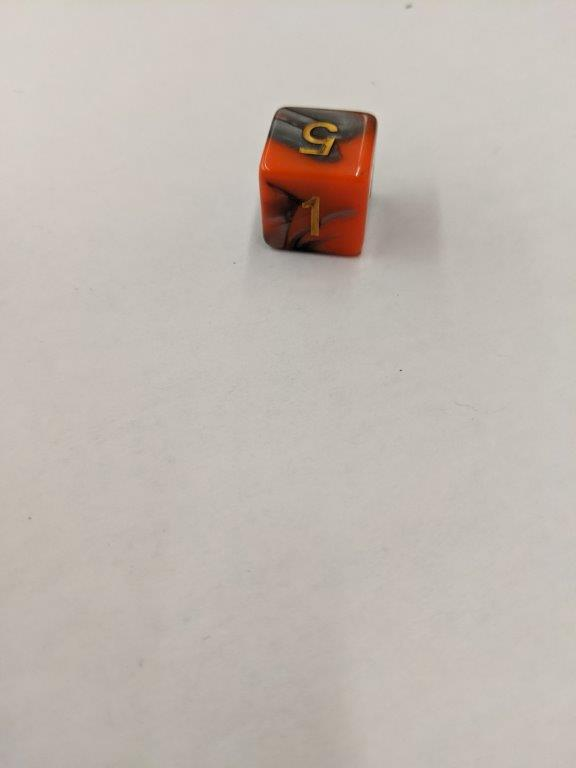d6-5: (257, 103, 379, 261)
